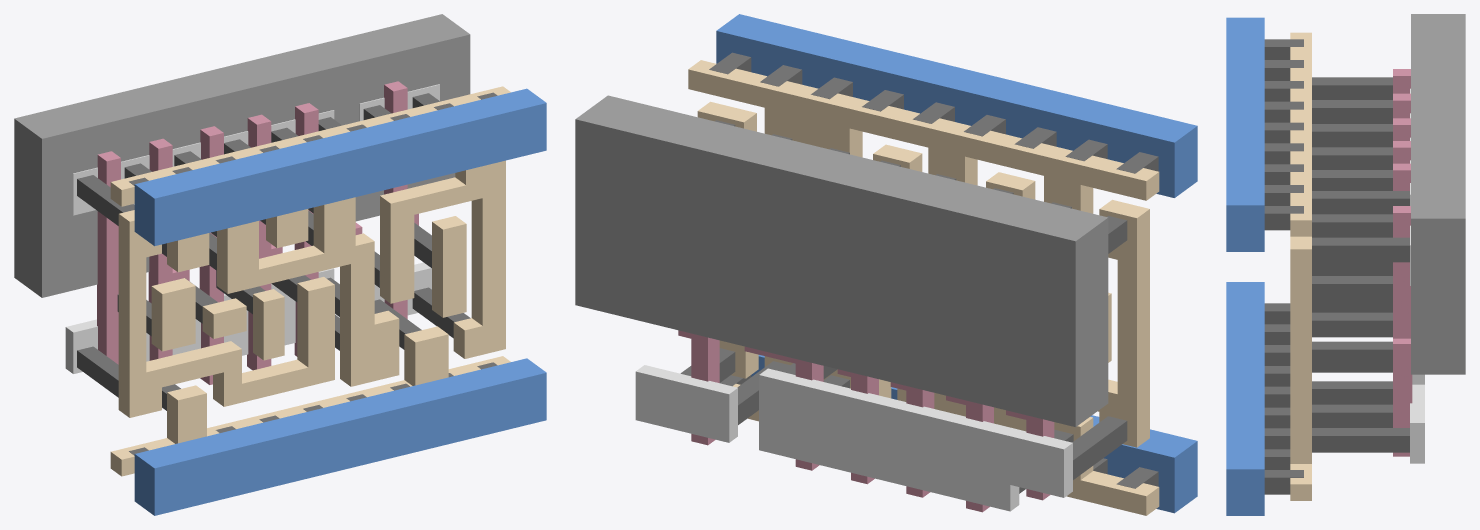
The model's file is sky130_fd_sc_hd__nand4bb_1.gds.gltf.
The picture shows the model from 3 angles, left to right: view 1: azimuth 30°, elevation 25°; view 2: azimuth 150°, elevation 25°; view 3: azimuth 270°, elevation 25°; orthographic projection. The views are drawn at different scales.
Parts seen in each view (by area): view 1: sky130_fd_sc_hd__nand4bb_1_li1, sky130_fd_sc_hd__nand4bb_1_met1, sky130_fd_sc_hd__nand4bb_1_nwell, sky130_fd_sc_hd__nand4bb_1_poly, sky130_fd_sc_hd__nand4bb_1_licon, sky130_fd_sc_hd__nand4bb_1_diff, sky130_fd_sc_hd__nand4bb_1_mcon; view 2: sky130_fd_sc_hd__nand4bb_1_nwell, sky130_fd_sc_hd__nand4bb_1_li1, sky130_fd_sc_hd__nand4bb_1_diff, sky130_fd_sc_hd__nand4bb_1_met1, sky130_fd_sc_hd__nand4bb_1_mcon, sky130_fd_sc_hd__nand4bb_1_poly, sky130_fd_sc_hd__nand4bb_1_licon; view 3: sky130_fd_sc_hd__nand4bb_1_licon, sky130_fd_sc_hd__nand4bb_1_nwell, sky130_fd_sc_hd__nand4bb_1_met1, sky130_fd_sc_hd__nand4bb_1_mcon, sky130_fd_sc_hd__nand4bb_1_li1, sky130_fd_sc_hd__nand4bb_1_poly, sky130_fd_sc_hd__nand4bb_1_diff.
Part boxes in pixels (<box>): sky130_fd_sc_hd__nand4bb_1_li1: <box>110,86,510,476</box>; sky130_fd_sc_hd__nand4bb_1_met1: <box>134,88,546,515</box>; sky130_fd_sc_hd__nand4bb_1_nwell: <box>14,14,470,297</box>; sky130_fd_sc_hd__nand4bb_1_poly: <box>97,81,418,384</box>; sky130_fd_sc_hd__nand4bb_1_licon: <box>77,93,470,410</box>; sky130_fd_sc_hd__nand4bb_1_diff: <box>65,84,439,373</box>; sky130_fd_sc_hd__nand4bb_1_mcon: <box>129,92,497,455</box>; sky130_fd_sc_hd__nand4bb_1_nwell: <box>575,95,1108,427</box>; sky130_fd_sc_hd__nand4bb_1_li1: <box>688,60,1159,515</box>; sky130_fd_sc_hd__nand4bb_1_diff: <box>635,365,1072,511</box>; sky130_fd_sc_hd__nand4bb_1_met1: <box>716,14,1197,513</box>; sky130_fd_sc_hd__nand4bb_1_mcon: <box>709,52,1158,488</box>; sky130_fd_sc_hd__nand4bb_1_poly: <box>678,330,1054,512</box>; sky130_fd_sc_hd__nand4bb_1_licon: <box>680,120,1127,493</box>; sky130_fd_sc_hd__nand4bb_1_licon: <box>1312,77,1409,452</box>; sky130_fd_sc_hd__nand4bb_1_nwell: <box>1411,14,1465,374</box>; sky130_fd_sc_hd__nand4bb_1_met1: <box>1226,17,1264,515</box>; sky130_fd_sc_hd__nand4bb_1_mcon: <box>1264,39,1303,494</box>; sky130_fd_sc_hd__nand4bb_1_li1: <box>1290,32,1311,500</box>; sky130_fd_sc_hd__nand4bb_1_poly: <box>1393,69,1412,456</box>; sky130_fd_sc_hd__nand4bb_1_diff: <box>1410,88,1424,463</box>.
Size of the model in its own units: 4.52 by 3.2 by 2.24.
